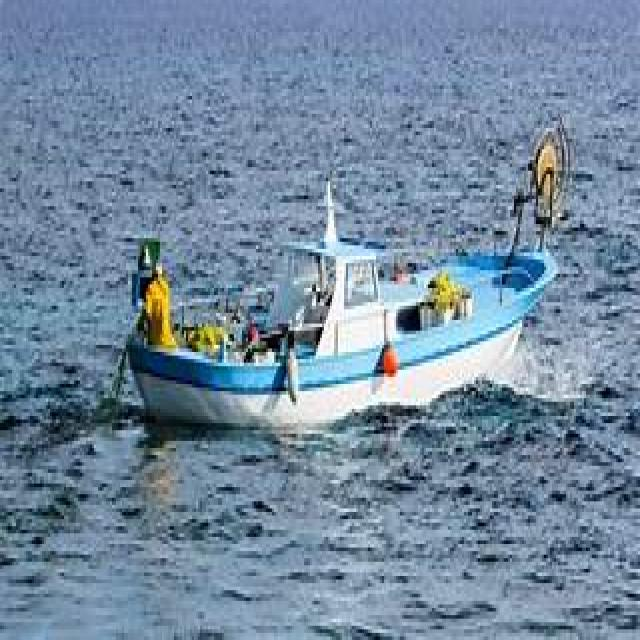Fishing Boat: (97, 92, 536, 428)
